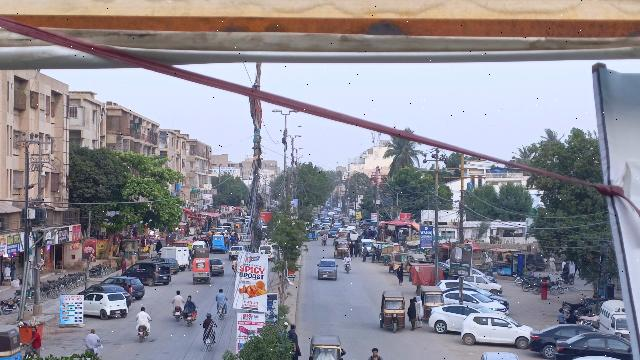Bike: (216, 302, 226, 323), (203, 332, 214, 351), (137, 324, 147, 344), (184, 313, 193, 329), (173, 306, 181, 324)
Car: (461, 310, 532, 347), (526, 323, 592, 356), (554, 331, 625, 360), (429, 303, 486, 334), (84, 290, 129, 320), (126, 260, 172, 286), (102, 272, 145, 299), (314, 257, 340, 282)
Person: (285, 321, 305, 358), (405, 294, 419, 332), (84, 327, 102, 351), (134, 305, 153, 326), (414, 294, 423, 329), (170, 288, 185, 308), (202, 311, 216, 332), (215, 286, 229, 304), (183, 296, 197, 313)
Rickshaw: (378, 289, 408, 333), (306, 331, 344, 360), (420, 284, 445, 324), (189, 255, 213, 285)
Suzuki: (599, 299, 628, 338)
Truck: (158, 244, 189, 268)
